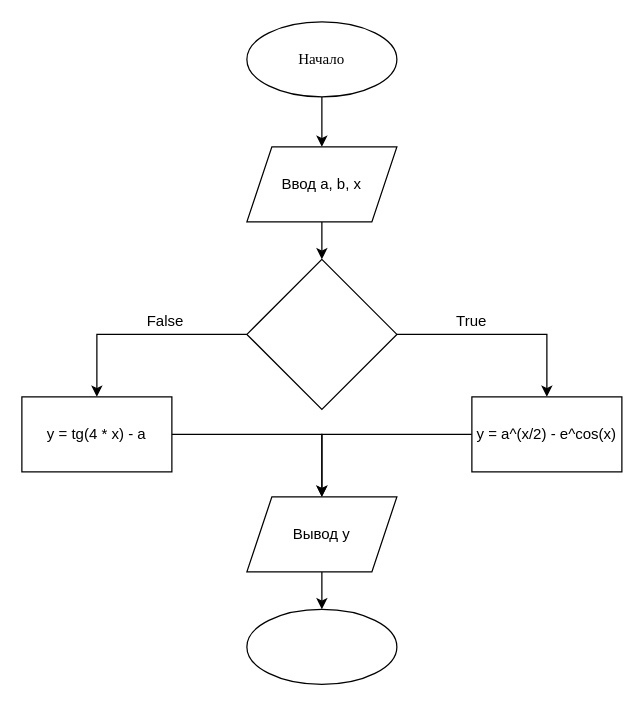
Some shapes in this 644 by 706 pixel diagram are drawn without their labels. The box of each missing label's shape, as (x1, y1, x2, y2) in pixels:
|a^2 - b^2| > b: (246, 258, 397, 409)
Конец: (246, 608, 397, 684)
